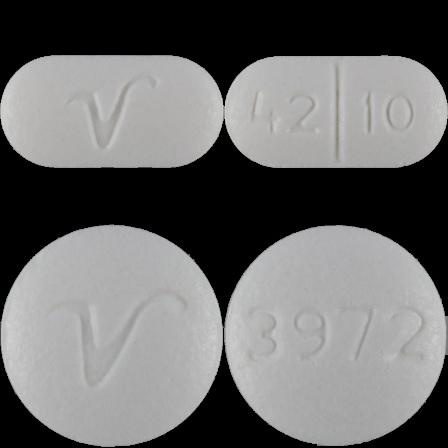64205-210: (0, 0, 224, 224)
